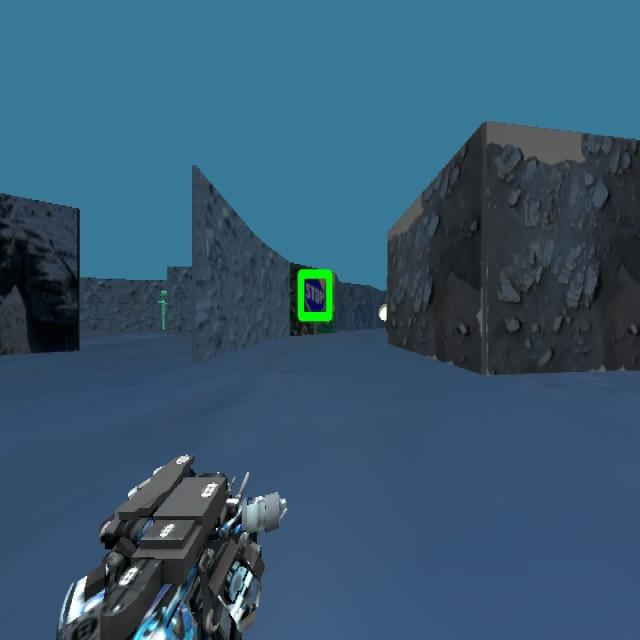Alien: (143, 250, 177, 350)
Circle: (374, 297, 392, 342)
Diamon: (296, 266, 333, 322)
